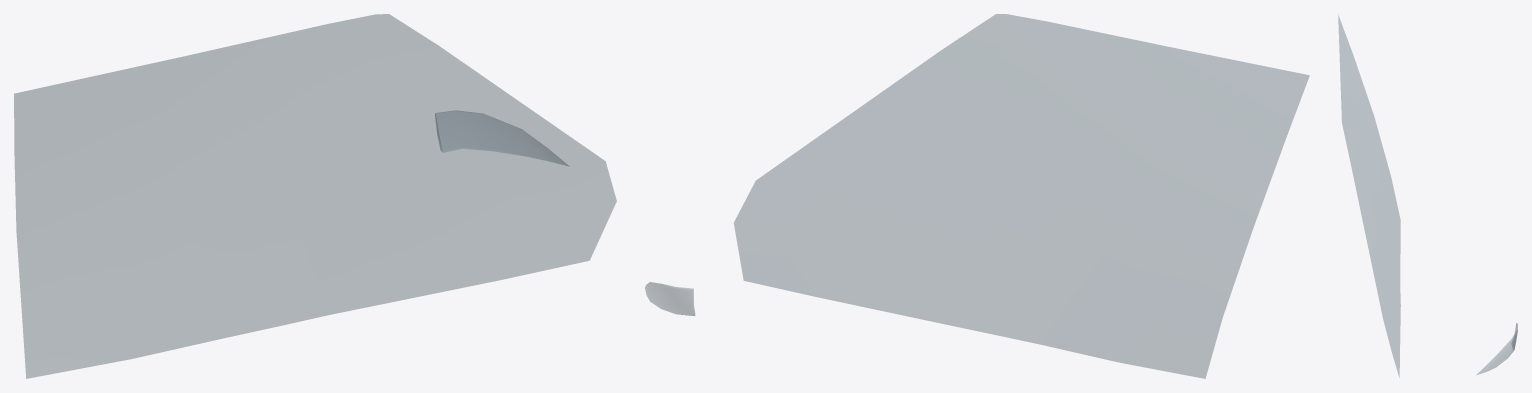
The picture shows the model from 3 angles, left to right: view 1: azimuth 30°, elevation 25°; view 2: azimuth 150°, elevation 25°; view 3: azimuth 270°, elevation 25°; orthographic projection. The views are drawn at different scales.
Visible parts, largest first — view 1: SM_NissanPatrol_Door_FL_Glass_Int1; view 2: SM_NissanPatrol_Door_FL_Glass_Int1; view 3: SM_NissanPatrol_Door_FL_Glass_Int1.
Part boxes in pixels (x1,y1,x2,y2): SM_NissanPatrol_Door_FL_Glass_Int1: (14, 14, 616, 378); SM_NissanPatrol_Door_FL_Glass_Int1: (645, 14, 1309, 378); SM_NissanPatrol_Door_FL_Glass_Int1: (1338, 16, 1517, 377).
Size of the model in its own units: 0.9766 by 0.496 by 0.4096.
